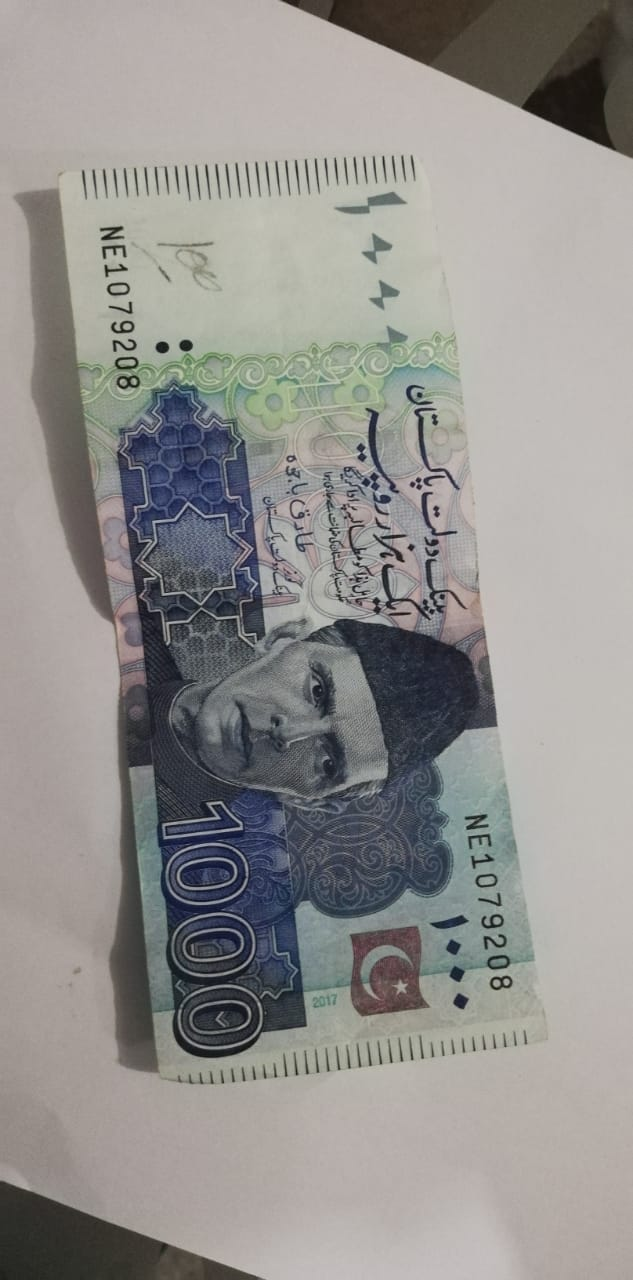1000 rupee: (6, 136, 562, 1138)
